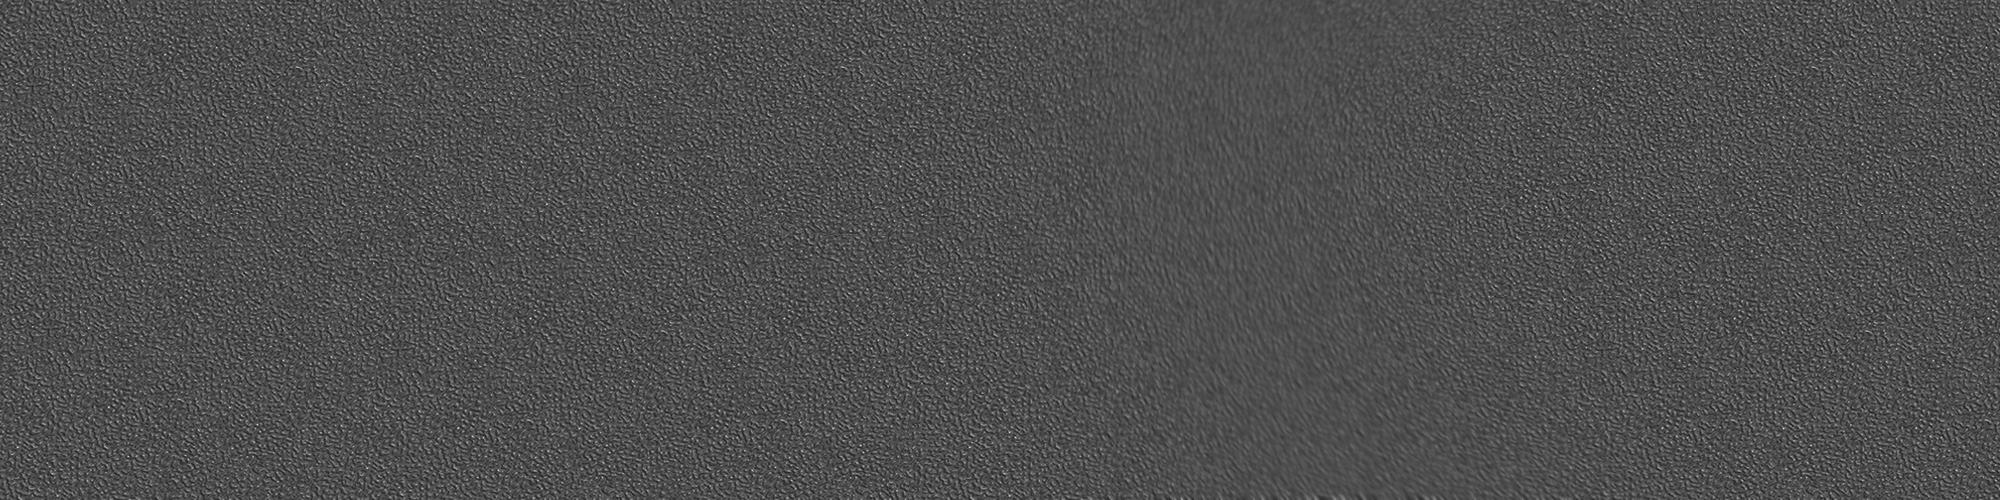Flow_Lines: (1056, 13, 1452, 496)
